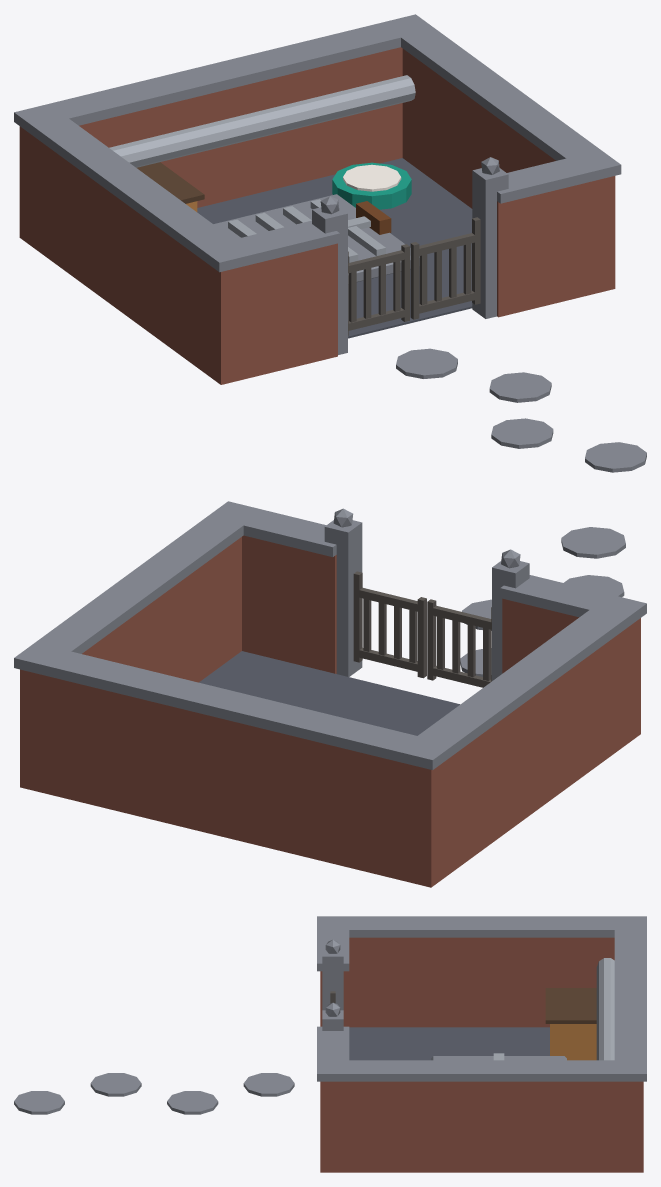
The model's file is CatCafe_Nook_Sewer.glb.
The picture shows the model from 3 angles, top to bottom: view 1: azimuth 30°, elevation 25°; view 2: azimuth 150°, elevation 25°; view 3: azimuth 270°, elevation 25°; orthographic projection. The views are drawn at different scales.
Parts seen in each view (by area): view 1: CatCafe_Nook_Sewer, CatCafe_Nook_Sewer_Decor, CatCafe_Nook_Sewer_Trap, CatCafe_Nook_Sewer_GateL, CatCafe_Nook_Sewer_GateR; view 2: CatCafe_Nook_Sewer, CatCafe_Nook_Sewer_Decor, CatCafe_Nook_Sewer_GateL, CatCafe_Nook_Sewer_GateR; view 3: CatCafe_Nook_Sewer, CatCafe_Nook_Sewer_Decor, CatCafe_Nook_Sewer_Trap.
Part boxes in pixels (x1,y1,x2,y2): CatCafe_Nook_Sewer: (14, 14, 621, 384); CatCafe_Nook_Sewer_Decor: (197, 158, 646, 472); CatCafe_Nook_Sewer_Trap: (213, 194, 419, 283); CatCafe_Nook_Sewer_GateL: (410, 217, 480, 319); CatCafe_Nook_Sewer_GateR: (348, 244, 409, 335); CatCafe_Nook_Sewer: (14, 501, 646, 887); CatCafe_Nook_Sewer_Decor: (199, 527, 625, 735); CatCafe_Nook_Sewer_GateL: (353, 571, 426, 678); CatCafe_Nook_Sewer_GateR: (427, 599, 491, 687); CatCafe_Nook_Sewer: (317, 916, 646, 1172); CatCafe_Nook_Sewer_Decor: (14, 1027, 549, 1114); CatCafe_Nook_Sewer_Trap: (431, 1053, 566, 1060).
Size of the model in its own units: 8.76 by 3.22 by 14.88.
Materials: 1 (1 with a texture image).
